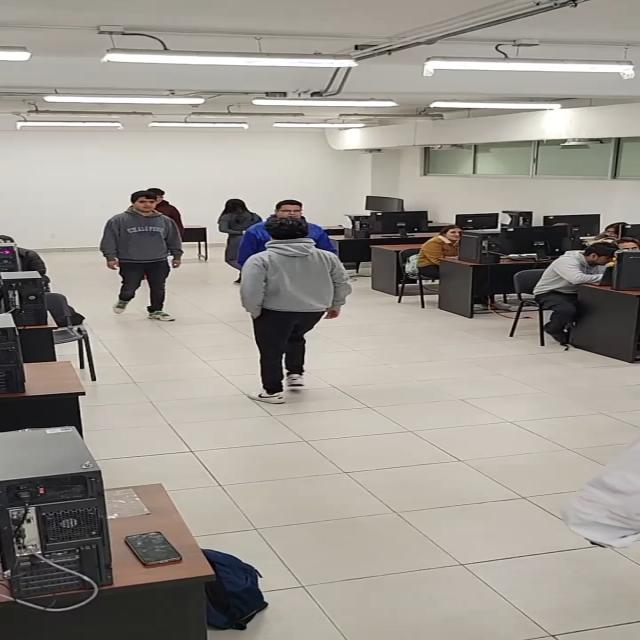Persona: (248, 216, 338, 406), (99, 190, 183, 324), (214, 192, 250, 275)
